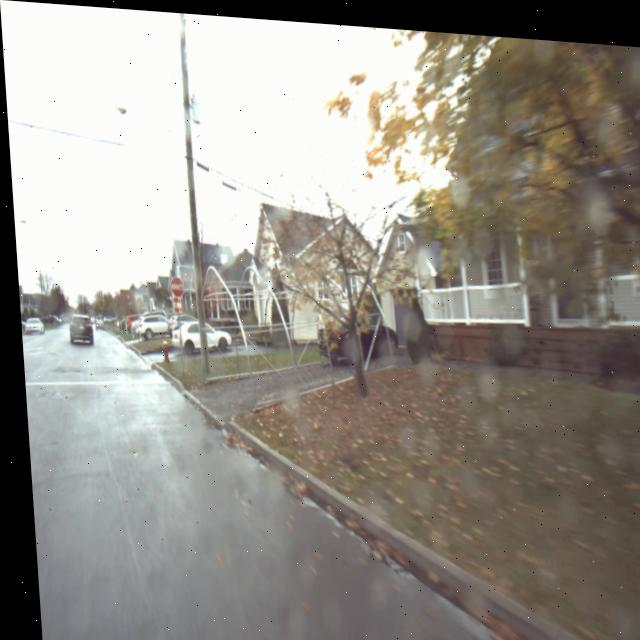car: (59, 299, 92, 351)
